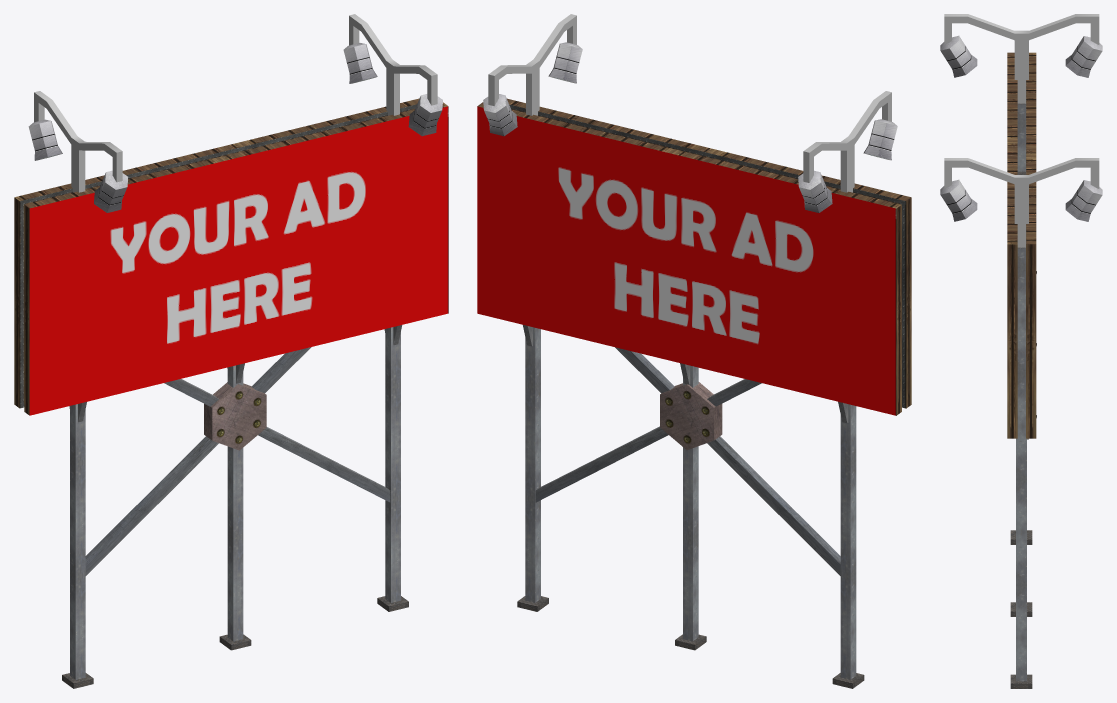
Rendered from billboard_02.fbx.
The picture shows the model from 3 angles, left to right: view 1: azimuth 30°, elevation 25°; view 2: azimuth 150°, elevation 25°; view 3: azimuth 270°, elevation 25°; orthographic projection. The views are drawn at different scales.
Visible parts, largest first — view 1: polySurface50, pCylinder136, polySurface51, pCube404, pCube403, group57_pCube401, group56_pCube401, pCube402; view 2: polySurface51, pCylinder136, polySurface50, pCube404, pCube403, group57_pCube401, group56_pCube401, pCube402; view 3: pCube403, group57_pCube401, group56_pCube401, polySurface50, polySurface51, pCube404.
Boxes of the visible parts, x1=… form: polySurface50: x1=24, y1=102, x2=448, y2=415; pCylinder136: x1=85, y1=347, x2=390, y2=575; polySurface51: x1=14, y1=98, x2=419, y2=408; pCube404: x1=62, y1=404, x2=93, y2=688; pCube403: x1=377, y1=327, x2=408, y2=611; group57_pCube401: x1=28, y1=91, x2=128, y2=212; group56_pCube401: x1=343, y1=14, x2=442, y2=136; pCube402: x1=219, y1=365, x2=251, y2=650; polySurface51: x1=477, y1=102, x2=901, y2=415; pCylinder136: x1=535, y1=347, x2=840, y2=575; polySurface50: x1=507, y1=98, x2=911, y2=408; pCube404: x1=832, y1=404, x2=864, y2=688; pCube403: x1=517, y1=327, x2=548, y2=611; group57_pCube401: x1=798, y1=91, x2=897, y2=212; group56_pCube401: x1=483, y1=14, x2=582, y2=136; pCube402: x1=675, y1=365, x2=706, y2=650; pCube403: x1=1010, y1=247, x2=1032, y2=688; group57_pCube401: x1=940, y1=14, x2=1102, y2=103; group56_pCube401: x1=940, y1=158, x2=1102, y2=247; polySurface50: x1=1007, y1=52, x2=1017, y2=438; polySurface51: x1=1026, y1=52, x2=1036, y2=438; pCube404: x1=1010, y1=103, x2=1032, y2=544.
Bounding box in the file's own units: 53.18 × 67.94 × 19.03.
